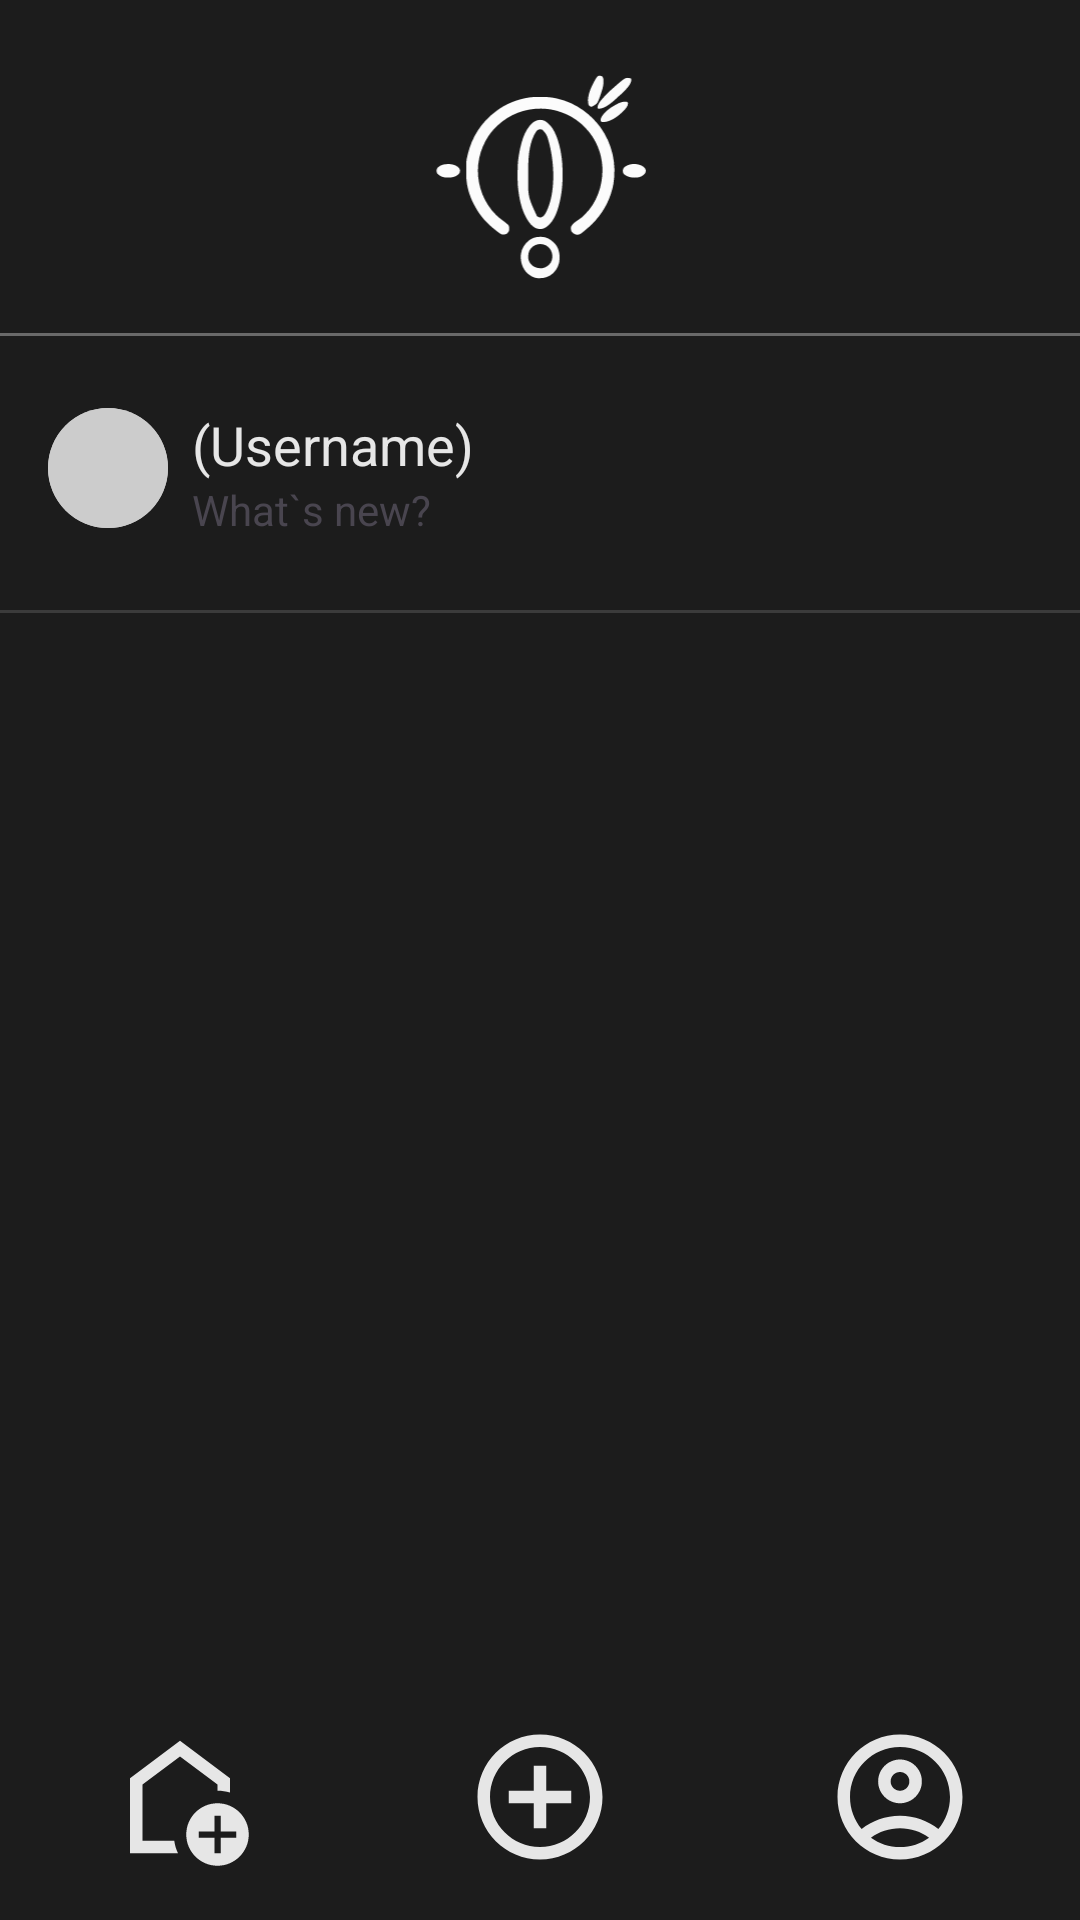

Screen size 1080px x 1920px. Icon name, then its box in pixels as (x1, y1, x2, y2):
account circle: (837, 1734, 963, 1860)
add circle: (477, 1734, 603, 1860)
add home: (130, 1741, 249, 1866)
